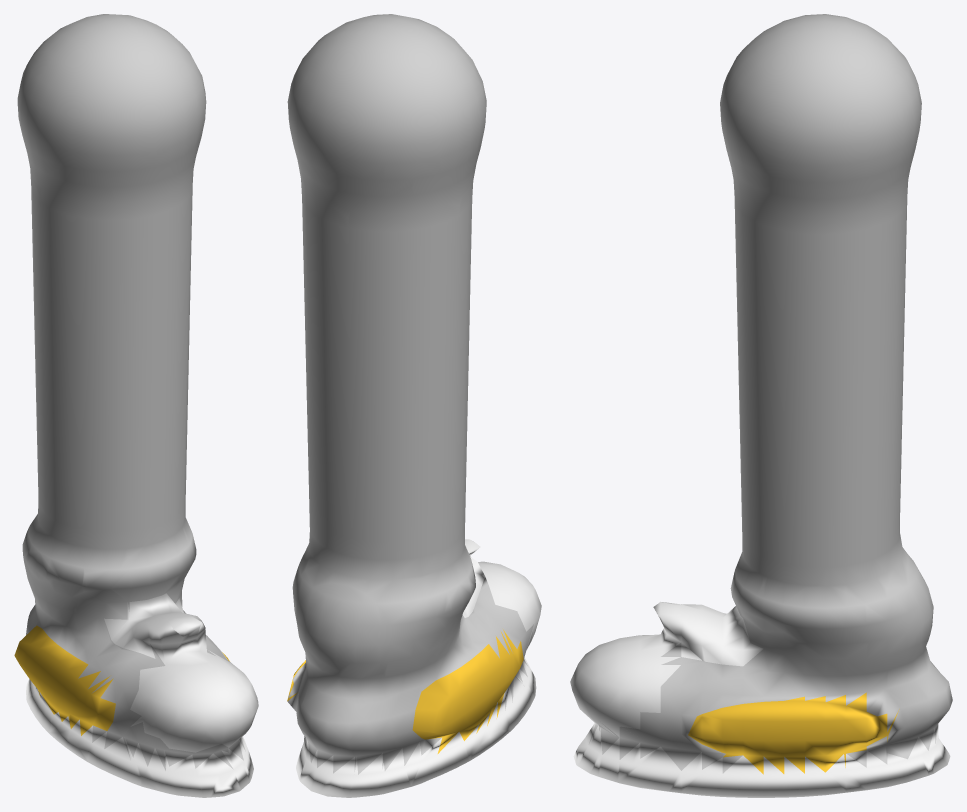
File: player_shin.fbx
3 views of the same model, side by side, from view 1: azimuth 30°, elevation 25°; view 2: azimuth 150°, elevation 25°; view 3: azimuth 270°, elevation 25° (orthographic). The views are drawn at different scales.
Visible parts, largest first — view 1: player_shin; view 2: player_shin; view 3: player_shin.
Part boxes in pixels (left/top/right/bottom): player_shin: left=14, top=14, right=258, bottom=797; player_shin: left=287, top=14, right=541, bottom=797; player_shin: left=570, top=14, right=952, bottom=797.
Size of the model in its own units: 0.1368 by 0.5612 by 0.2592.
